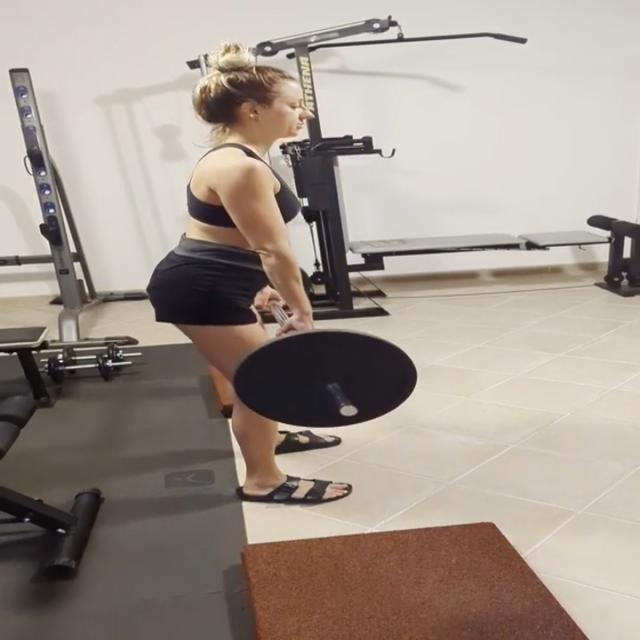barbell: (230, 326, 420, 431)
